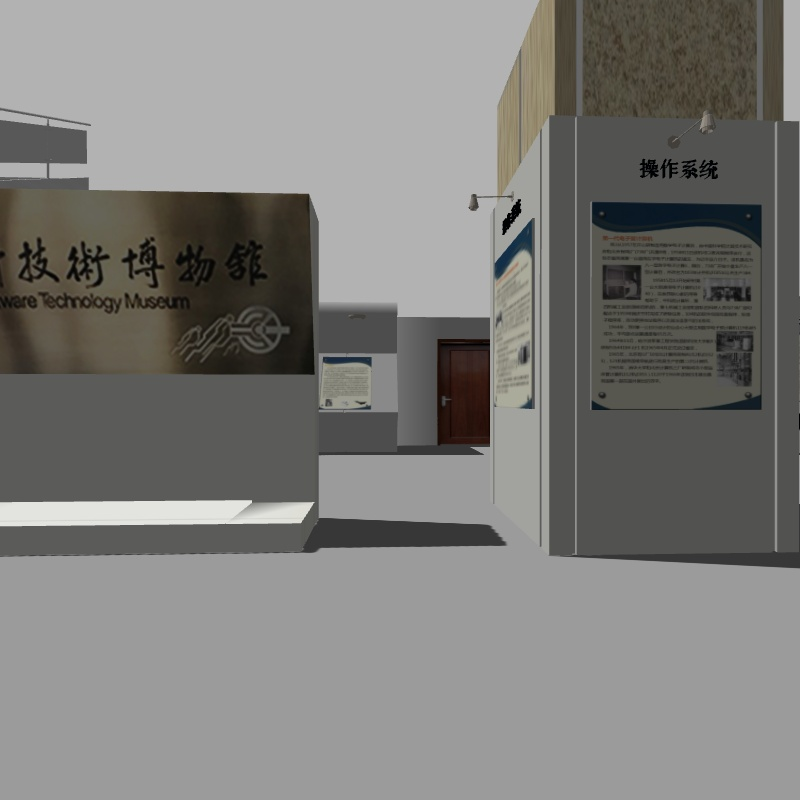handle: (434, 385, 457, 408)
